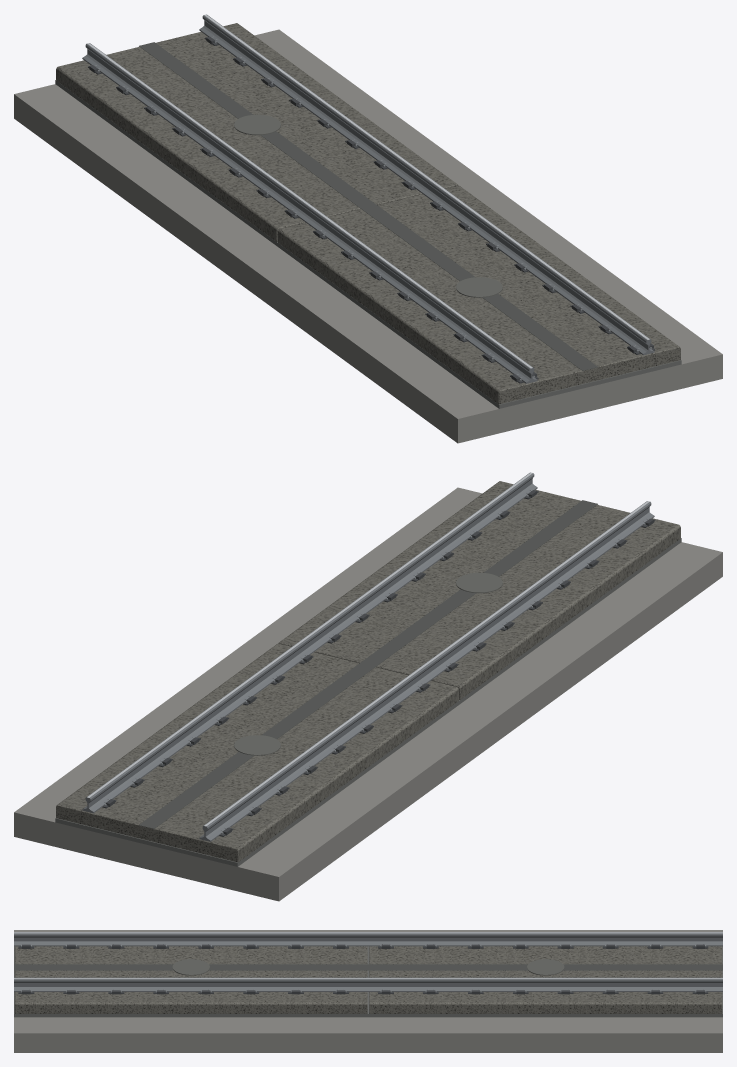
3 renders of one model, top to bottom at view 1: azimuth 30°, elevation 25°; view 2: azimuth 150°, elevation 25°; view 3: azimuth 270°, elevation 25°, orthographic. The views are drawn at different scales.
Visible parts, largest first — view 1: jp-track-slab; view 2: jp-track-slab; view 3: jp-track-slab.
Part boxes in pixels (bbox=[...]): jp-track-slab: bbox=[14, 14, 722, 443]; jp-track-slab: bbox=[14, 472, 722, 901]; jp-track-slab: bbox=[14, 930, 722, 1052].
Bounding box in the file's own units: 3.4 × 0.7018 × 9.86.
11 materials, 1 textured.
